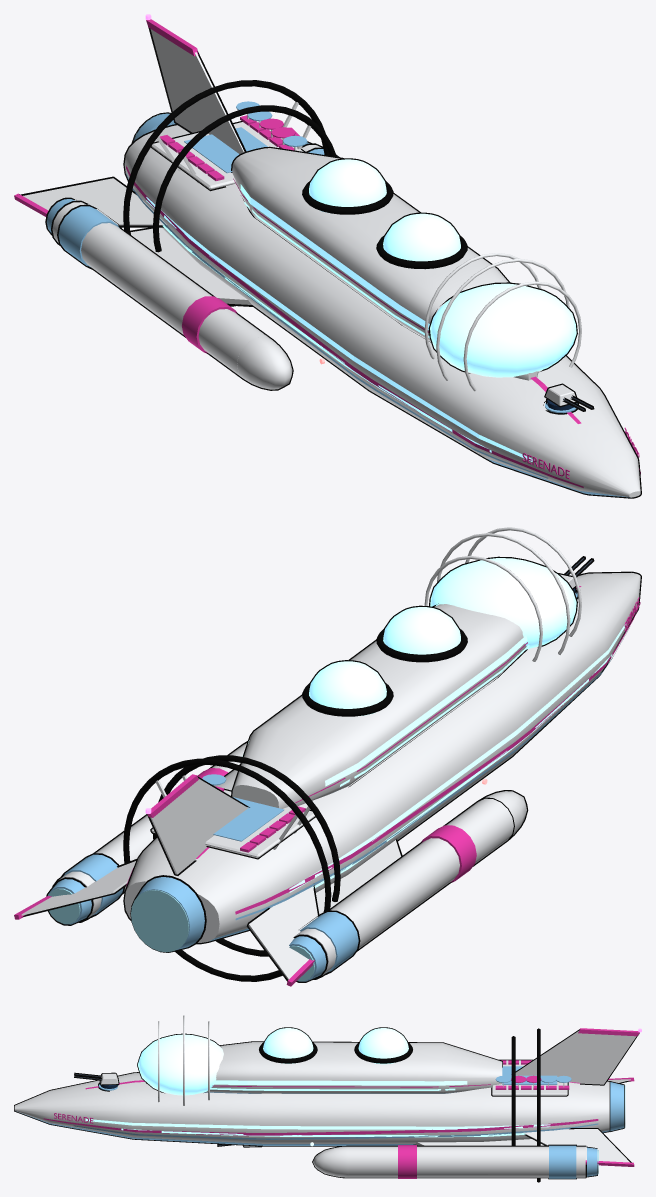
The model's file is Destroyer_Liner.fbx.
3 views of the same model, one above another, from view 1: azimuth 30°, elevation 25°; view 2: azimuth 150°, elevation 25°; view 3: azimuth 270°, elevation 25° (orthographic). The views are drawn at different scales.
Visible parts, largest first — view 1: Hull, Superstructure, Lounge_Glass, Nacelle-1_Body, FinD, ObsDome0.46, ObsDome0.62, FinS-1, Nacelle-1_Nose, Nacelle-1_Pylon, Halo0, Halo1 (+15 smaller); view 2: Hull, Superstructure, Nacelle-1_Body, Lounge_Glass, FinD, FinS-1, Halo0, ObsDome0.62, ObsDome0.46, MainGlow, Halo1, Nacelle1_Body (+22 smaller); view 3: Hull, Superstructure, Nacelle1_Body, Lounge_Glass, FinD, FinS1, Promenadeside+, Mk_Swooshside+, SS_Windowsside+, ObsDome0.62, ObsDome0.46, Mk_SwooshBside+ (+17 smaller).
Part boxes in pixels (x1,y1,x2,y2): Hull: [123, 124, 641, 498]; Superstructure: [231, 146, 538, 380]; Lounge_Glass: [428, 282, 577, 377]; Nacelle-1_Body: [51, 200, 272, 378]; FinD: [148, 27, 246, 154]; ObsDome0.46: [382, 212, 461, 261]; ObsDome0.62: [308, 158, 386, 212]; FinS-1: [19, 176, 166, 227]; Nacelle-1_Nose: [236, 334, 293, 390]; Nacelle-1_Pylon: [130, 227, 254, 306]; Halo0: [123, 80, 329, 234]; Halo1: [153, 105, 336, 306]; Hull: [123, 571, 641, 944]; Superstructure: [231, 603, 527, 808]; Nacelle-1_Body: [294, 797, 514, 979]; Lounge_Glass: [429, 556, 577, 649]; FinD: [147, 776, 249, 875]; FinS-1: [246, 885, 319, 981]; Halo0: [123, 758, 331, 981]; ObsDome0.62: [308, 660, 387, 715]; ObsDome0.46: [383, 605, 461, 654]; MainGlow: [131, 890, 189, 952]; Halo1: [153, 755, 340, 956]; Nacelle1_Body: [52, 741, 247, 922]; Hull: [14, 1072, 610, 1146]; Superstructure: [146, 1041, 502, 1093]; Nacelle1_Body: [348, 1145, 586, 1178]; Lounge_Glass: [137, 1033, 223, 1095]; FinD: [515, 1029, 639, 1085]; FinS1: [523, 1128, 631, 1162]; Promenadeside+: [85, 1119, 550, 1129]; Mk_Swooshside+: [43, 1118, 598, 1135]; SS_Windowsside+: [213, 1080, 467, 1085]; ObsDome0.62: [358, 1027, 409, 1064]; ObsDome0.46: [262, 1027, 313, 1063]; Mk_SwooshBside+: [74, 1123, 598, 1139].
Bounding box in the file's own units: 33.23 × 27.35 × 100.
